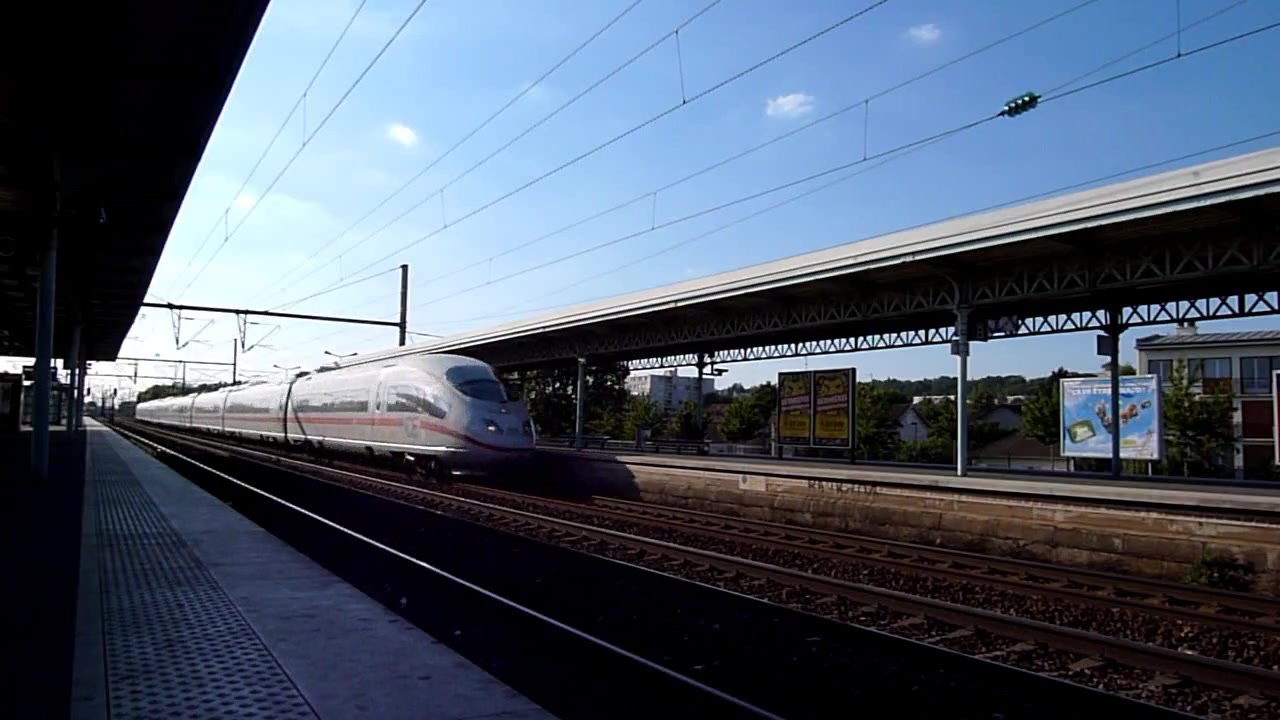train: (132, 352, 545, 473)
